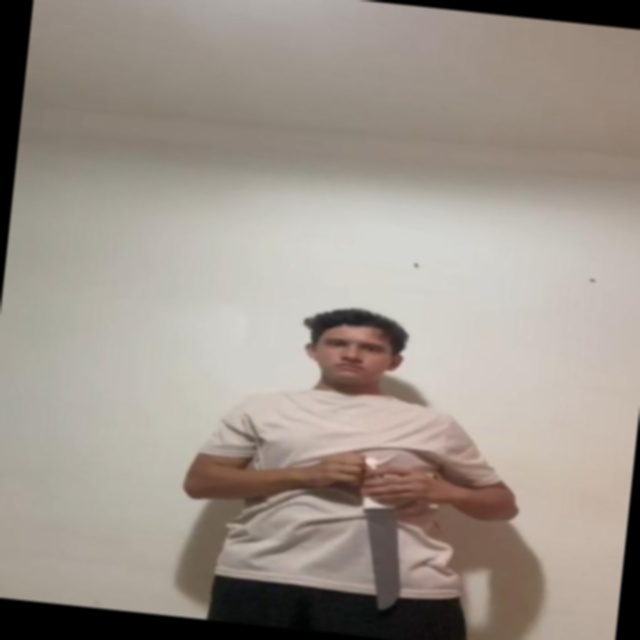Sharp-Object: (355, 509, 412, 615)
